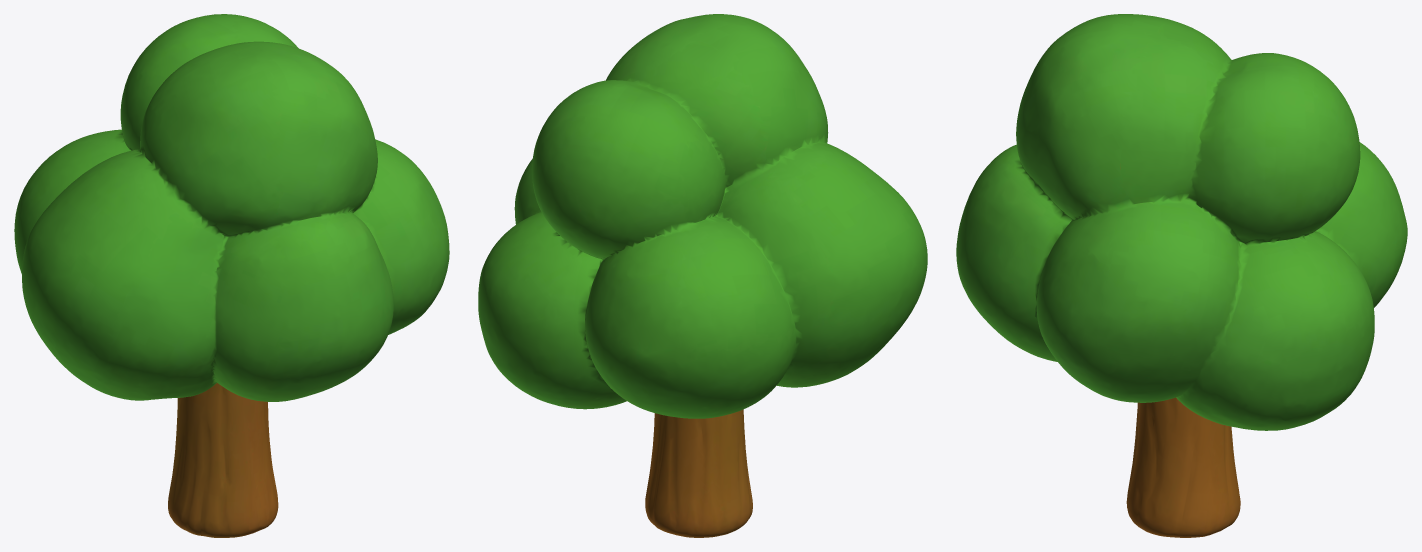
Rendered from 22-arvore.glb.
3 renders of one model, left to right at view 1: azimuth 30°, elevation 25°; view 2: azimuth 150°, elevation 25°; view 3: azimuth 270°, elevation 25°, orthographic. The views are drawn at different scales.
Visible parts, largest first — view 1: tripo_node_6aff5315-040d-4764-b5c6-300d465167e8; view 2: tripo_node_6aff5315-040d-4764-b5c6-300d465167e8; view 3: tripo_node_6aff5315-040d-4764-b5c6-300d465167e8.
Boxes of the visible parts, box(x1,y1,x2,y2) form: tripo_node_6aff5315-040d-4764-b5c6-300d465167e8: box(14, 14, 449, 537); tripo_node_6aff5315-040d-4764-b5c6-300d465167e8: box(478, 14, 927, 537); tripo_node_6aff5315-040d-4764-b5c6-300d465167e8: box(956, 14, 1407, 537).
Bounding box in the file's own units: 0.8462 × 1 × 0.8192.
Materials: 1 (1 with a texture image).
